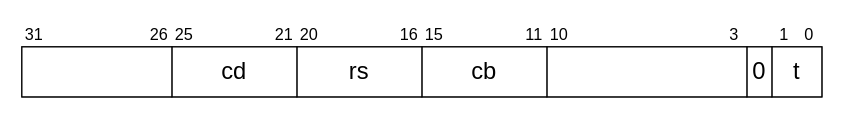
This 844x119 diagram has some shape labels left out. Each missing label, with the centre of its shape:
0x3b: point (96, 71)
offset: point (646, 71)
